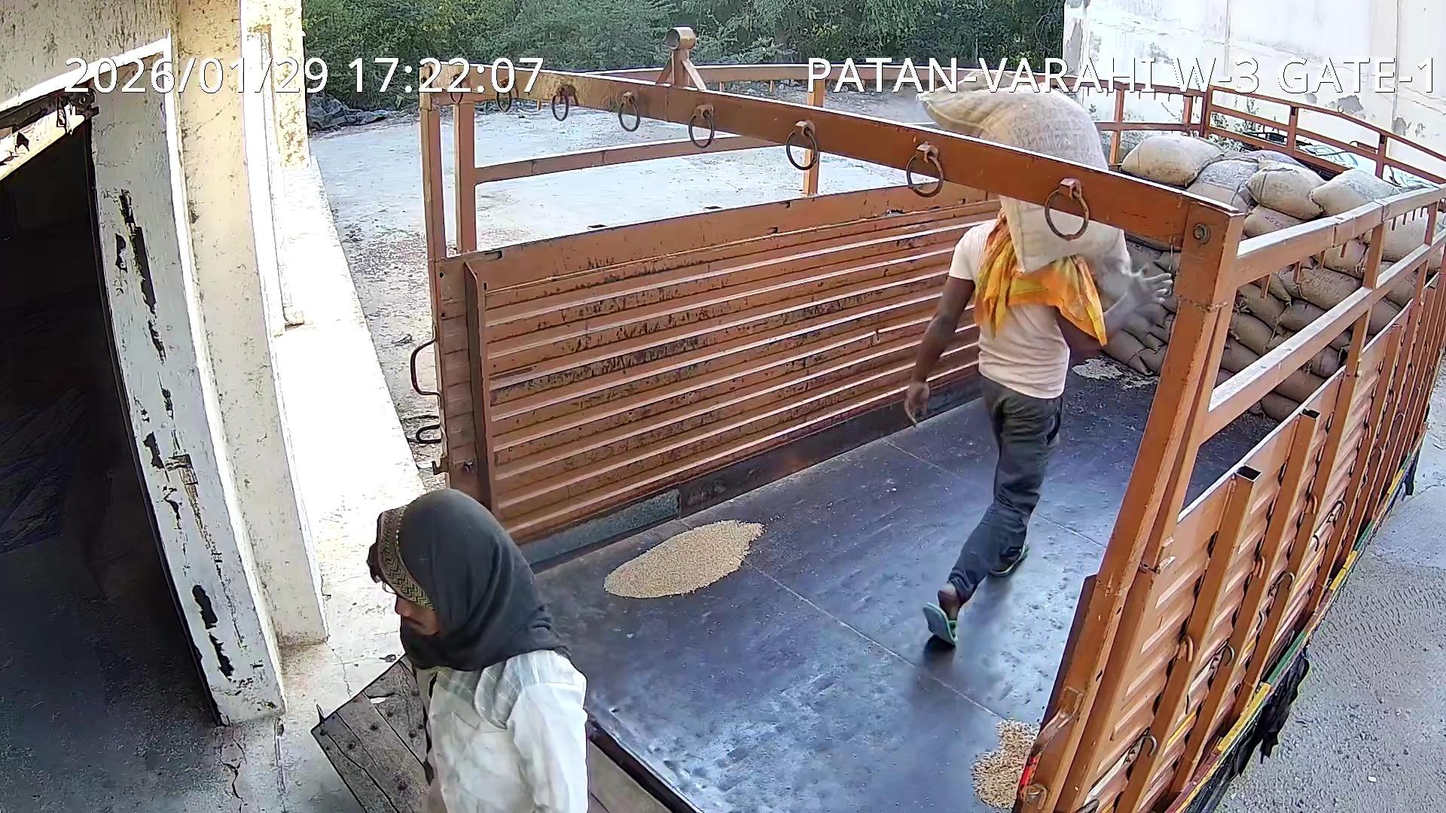Sack: (919, 79, 1109, 170), (1002, 196, 1127, 279)
